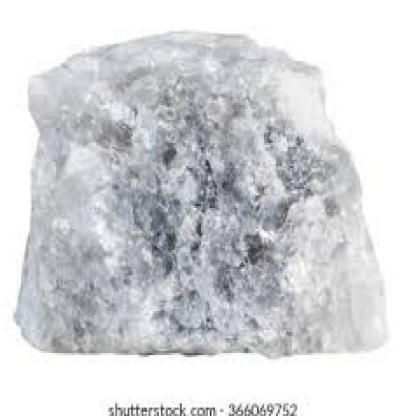Metamorphic_Marble: (5, 21, 392, 359)
